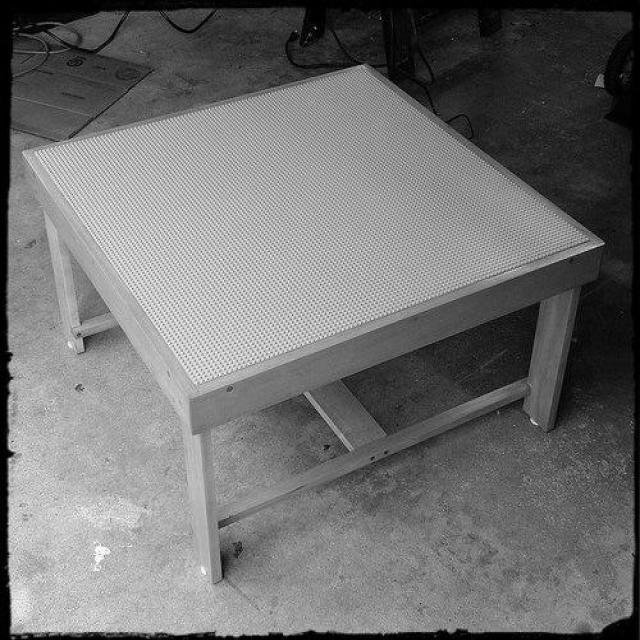table: (20, 63, 605, 586)
